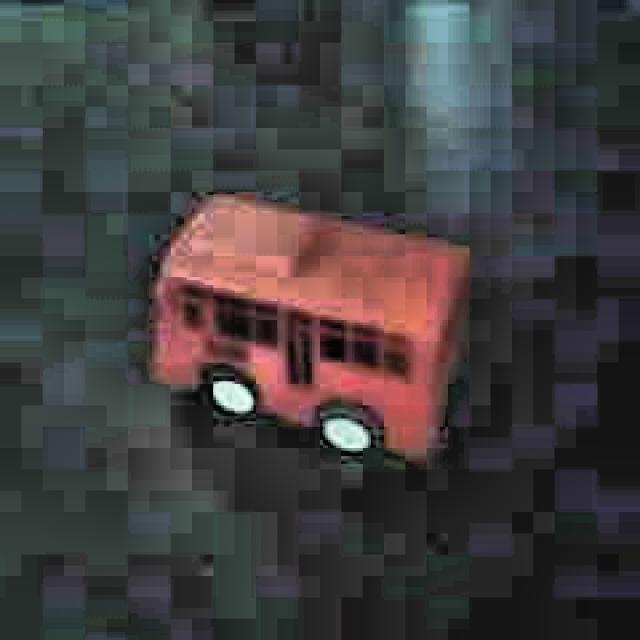bus: (146, 186, 478, 470)
